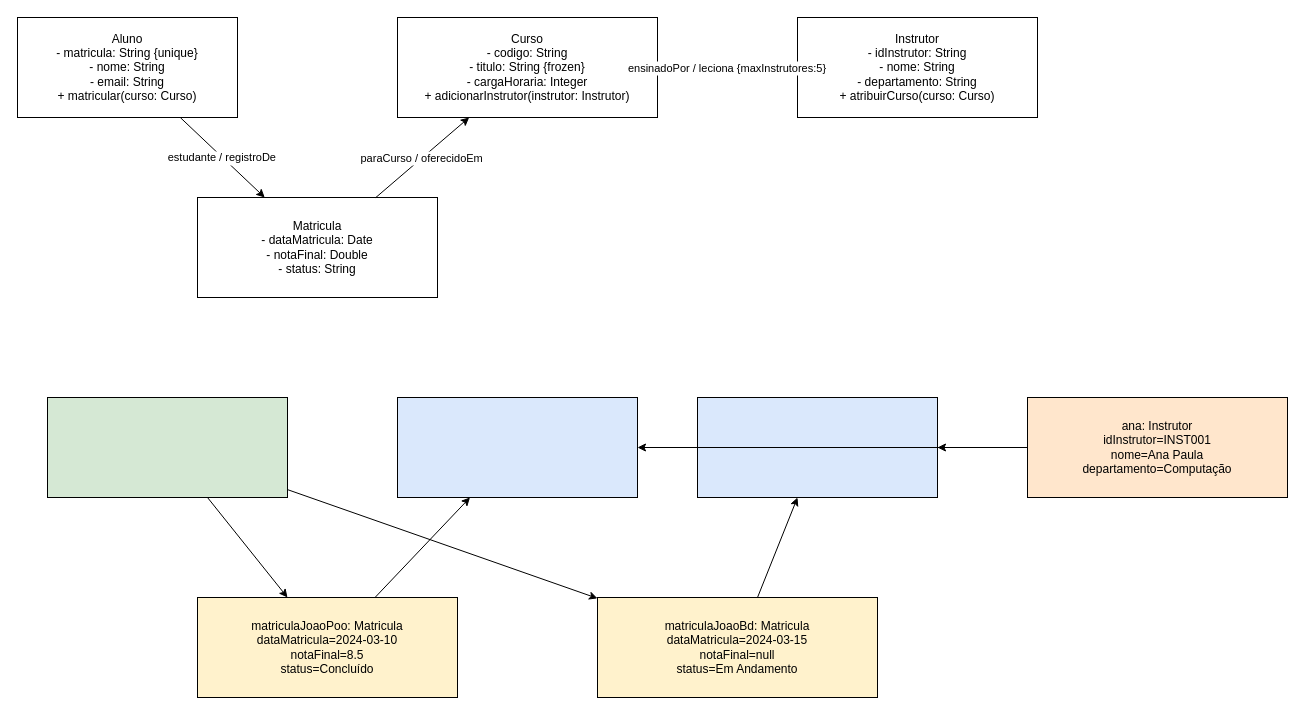
Image size: 1305x715. Some labels were removed from this diagram. Here are the shapes that lost their labels. From the top down, the centre of each, then its label:
At point (167, 447): "joao: Aluno matricula=2023001 nome=João Silva email=joao.silva@email.com".
At point (517, 447): "poo: Curso codigo=CS101 titulo=POO cargaHoraria=60".
At point (817, 447): "bd: Curso codigo=CS102 titulo=Banco de Dados cargaHoraria=40".
